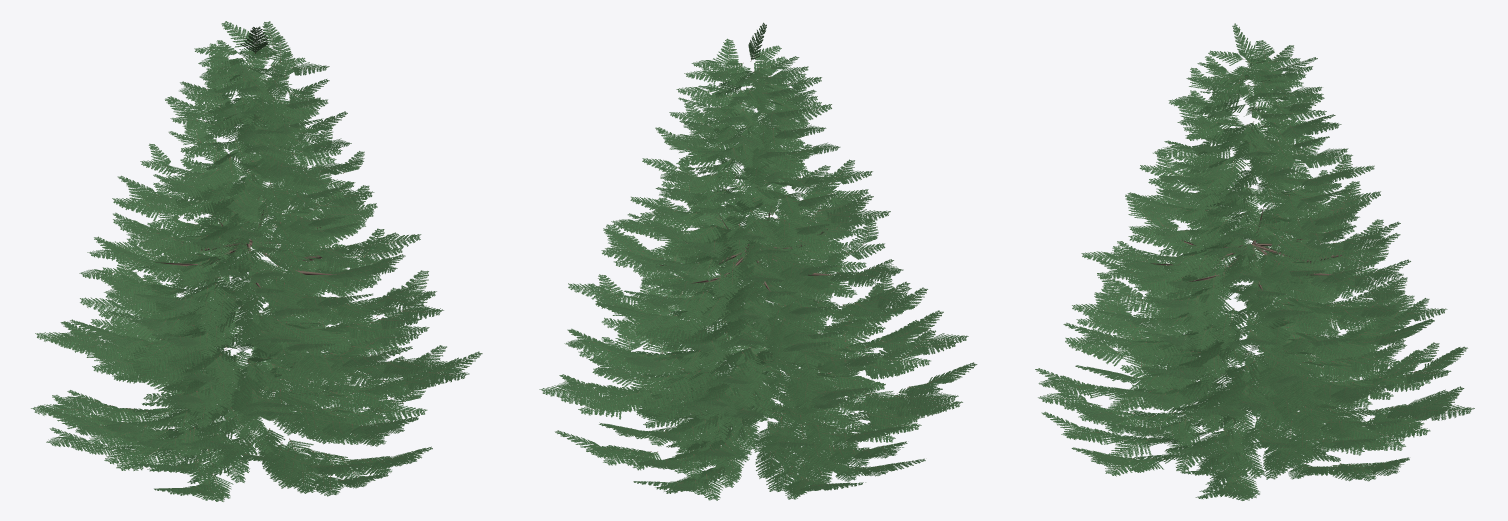
Rendered from eco_tree_conifer_a_LOD1.glb.
3 views of the same model, side by side, from view 1: azimuth 30°, elevation 25°; view 2: azimuth 150°, elevation 25°; view 3: azimuth 270°, elevation 25° (orthographic). The views are drawn at different scales.
Parts seen in each view (by area): view 1: eco_tree_conifer_a_LOD1; view 2: eco_tree_conifer_a_LOD1; view 3: eco_tree_conifer_a_LOD1.
Boxes of the visible parts, box(x1,y1,x2,y2) form: eco_tree_conifer_a_LOD1: box(31, 21, 482, 501); eco_tree_conifer_a_LOD1: box(539, 22, 977, 500); eco_tree_conifer_a_LOD1: box(1035, 23, 1474, 500).
Size of the model in its own units: 7.32 by 7.71 by 7.64.
2 materials, 1 textured.
